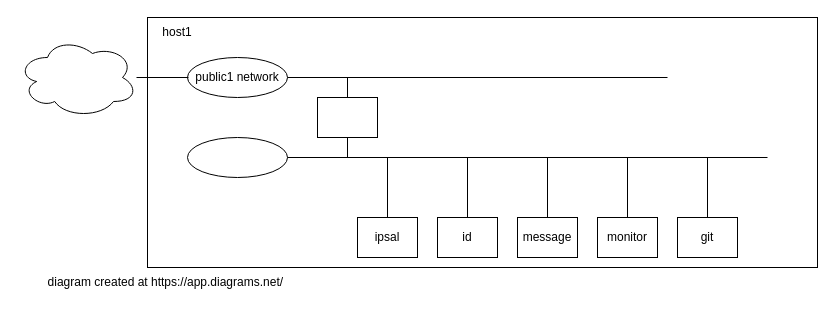
Some shapes in this 835 by 315 pixel diagram are drawn without their labels. The shapes that lost their labels are listed below. From the top down, each one's centre as x and y in pixels, then its label:
At pixel 77 77: "Internet".
At pixel 347 117: "gateway".
At pixel 237 157: "private1 network".
